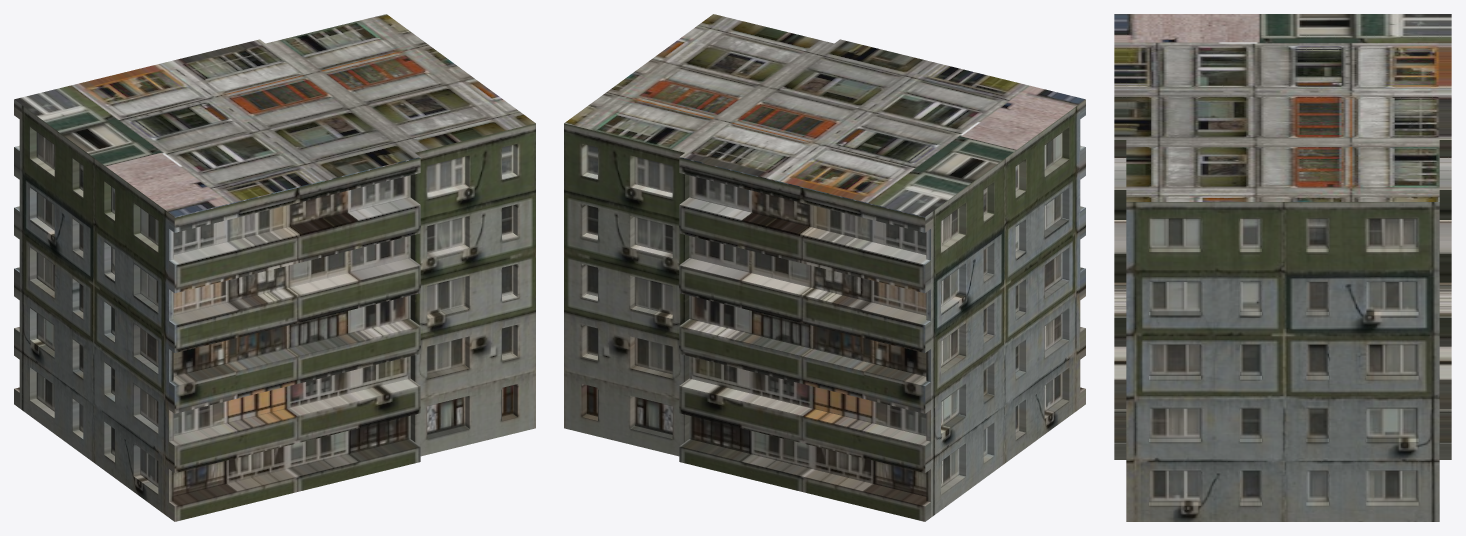
Rendered from building3.fbx.
3 views of the same model, side by side, from view 1: azimuth 30°, elevation 25°; view 2: azimuth 150°, elevation 25°; view 3: azimuth 270°, elevation 25° (orthographic). The views are drawn at different scales.
Parts seen in each view (by area): view 1: building3; view 2: building3; view 3: building3.
Part boxes in pixels (box(x1,y1,x2,y2)): building3: box(14, 14, 535, 521); building3: box(564, 14, 1085, 521); building3: box(1114, 14, 1451, 521).
Bounding box in the file's own units: 34.3 × 26.03 × 27.26.
1 material, 1 textured.
